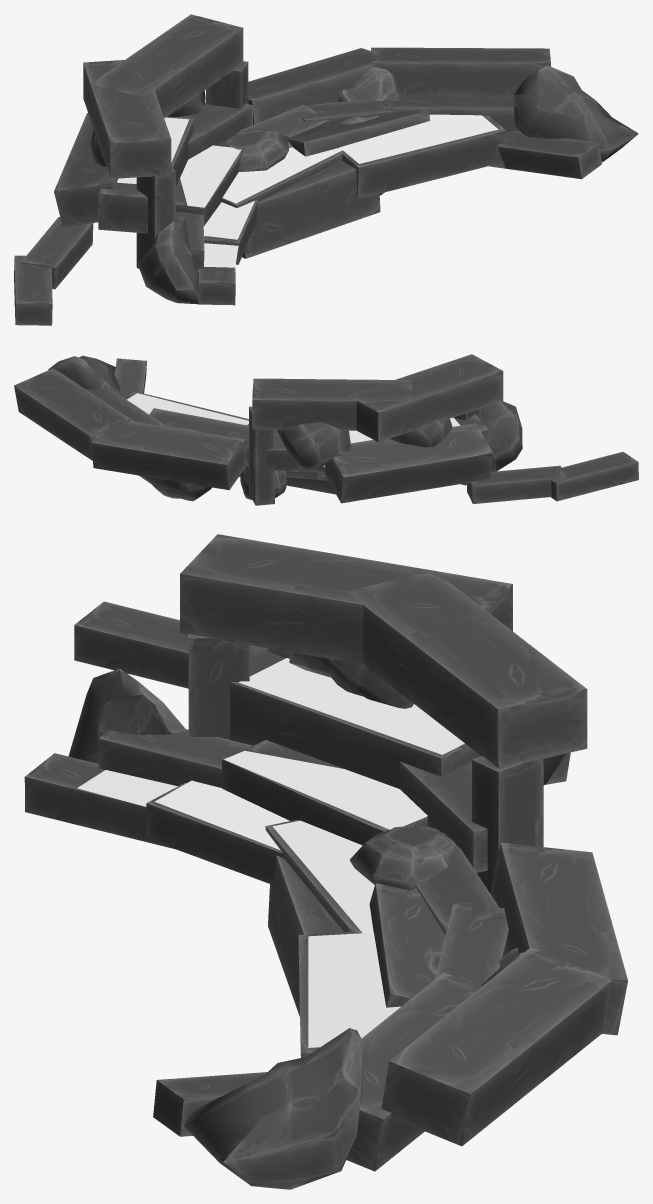
Rendered from PFB_WaterFall.fbx.
3 renders of one model, top to bottom at view 1: azimuth 30°, elevation 25°; view 2: azimuth 150°, elevation 25°; view 3: azimuth 270°, elevation 25°, orthographic. The views are drawn at different scales.
Parts seen in each view (by area): view 1: MSH_cailloux_rectangulaire_10, MSH_cailloux_rectangulaire_8, MSH_cailloux_rectangulaire__1_, MSH_cailloux_rectangulaire_18, MSH_cailloux_deforme_1_1, MSH_cailloux_rectangulaire_17, MSH_cailloux_rectangulaire_13, MSH_cailloux_rectangulaire__4_, MSH_cailloux_deforme_1, MSH_cailloux_rectangulaire_3, Water__17_, MSH_cailloux_rectangulaire__2_ (+22 smaller); view 2: MSH_cailloux_rectangulaire__4_, MSH_cailloux_rectangulaire__1_, MSH_cailloux_rectangulaire_13, MSH_cailloux_rectangulaire_10, MSH_cailloux_rectangulaire_8, MSH_cailloux_rectangulaire_15, MSH_cailloux_rectangulaire__1__1, MSH_cailloux_deforme_1_2, MSH_cailloux_deforme_1, MSH_cailloux_rectangulaire_5, MSH_cailloux_deforme_1_1, MSH_cailloux_rectangulaire_1 (+12 smaller); view 3: MSH_cailloux_rectangulaire_10, MSH_cailloux_rectangulaire_8, MSH_cailloux_rectangulaire__1_, MSH_cailloux_deforme_1_1, MSH_cailloux_rectangulaire_13, MSH_cailloux_rectangulaire__2_, MSH_cailloux_rectangulaire_12, Water__17_, MSH_cailloux_rectangulaire_15, Water__23_, MSH_cailloux_rectangulaire_1, Water__18_ (+19 smaller).
Boxes of the visible parts, <box> form: MSH_cailloux_rectangulaire_10: <box>91,14,243,117</box>; MSH_cailloux_rectangulaire_8: <box>371,47,550,95</box>; MSH_cailloux_rectangulaire__1_: <box>83,60,171,178</box>; MSH_cailloux_rectangulaire_18: <box>242,160,380,258</box>; MSH_cailloux_deforme_1_1: <box>513,65,638,161</box>; MSH_cailloux_rectangulaire_17: <box>342,115,506,198</box>; MSH_cailloux_rectangulaire_13: <box>248,48,394,124</box>; MSH_cailloux_rectangulaire__4_: <box>54,113,117,227</box>; MSH_cailloux_deforme_1: <box>137,216,198,304</box>; MSH_cailloux_rectangulaire_3: <box>490,131,601,179</box>; Water__17_: <box>340,114,498,163</box>; MSH_cailloux_rectangulaire__2_: <box>98,116,194,233</box>; MSH_cailloux_rectangulaire__4_: <box>324,423,492,503</box>; MSH_cailloux_rectangulaire__1_: <box>348,354,503,442</box>; MSH_cailloux_rectangulaire_13: <box>91,417,247,490</box>; MSH_cailloux_rectangulaire_10: <box>252,378,412,430</box>; MSH_cailloux_rectangulaire_8: <box>14,368,130,460</box>; MSH_cailloux_rectangulaire_15: <box>551,451,638,501</box>; MSH_cailloux_rectangulaire__1__1: <box>467,465,566,503</box>; MSH_cailloux_deforme_1_2: <box>277,422,351,468</box>; MSH_cailloux_deforme_1: <box>481,401,522,471</box>; MSH_cailloux_rectangulaire_5: <box>249,406,274,505</box>; MSH_cailloux_deforme_1_1: <box>48,355,120,394</box>; MSH_cailloux_rectangulaire_1: <box>149,408,248,439</box>; MSH_cailloux_rectangulaire_10: <box>346,571,587,767</box>; MSH_cailloux_rectangulaire_8: <box>381,947,612,1146</box>; MSH_cailloux_rectangulaire__1_: <box>180,534,512,664</box>; MSH_cailloux_deforme_1_1: <box>184,1028,362,1189</box>; MSH_cailloux_rectangulaire_13: <box>490,842,627,1035</box>; MSH_cailloux_rectangulaire__2_: <box>230,645,480,788</box>; MSH_cailloux_rectangulaire_12: <box>346,972,477,1171</box>; Water__17_: <box>308,932,400,1047</box>; MSH_cailloux_rectangulaire_15: <box>74,601,188,688</box>; Water__23_: <box>238,658,464,754</box>; MSH_cailloux_rectangulaire_1: <box>369,883,445,1007</box>; Water__18_: <box>224,750,427,829</box>.
Bounding box in the file's own units: 17530 × 4578 × 8399.
5 materials, 4 textured.
